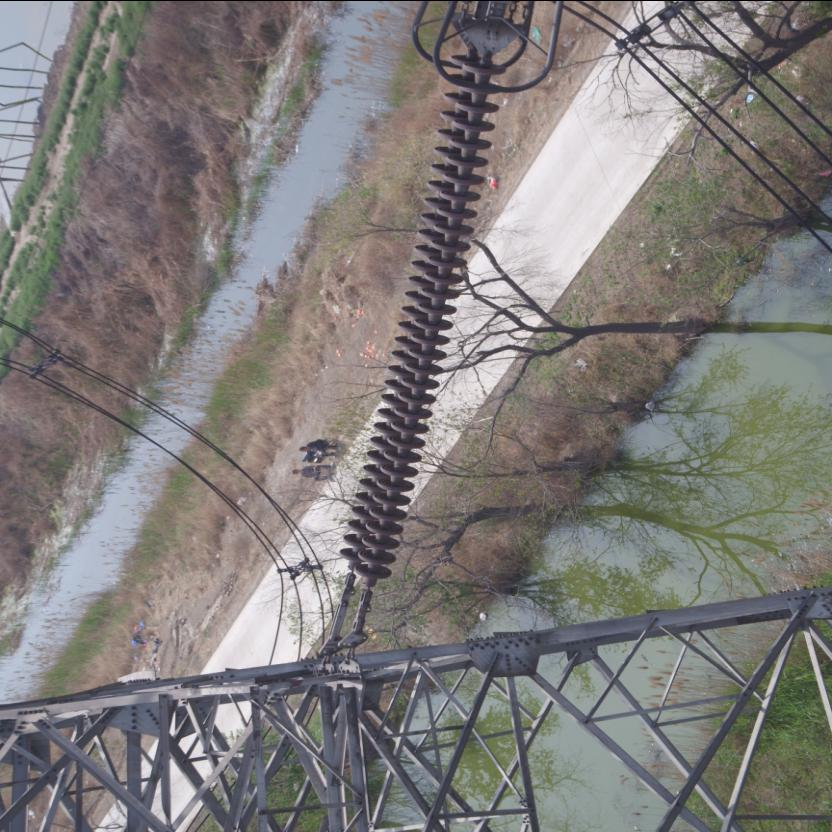insulator: (333, 28, 510, 626)
